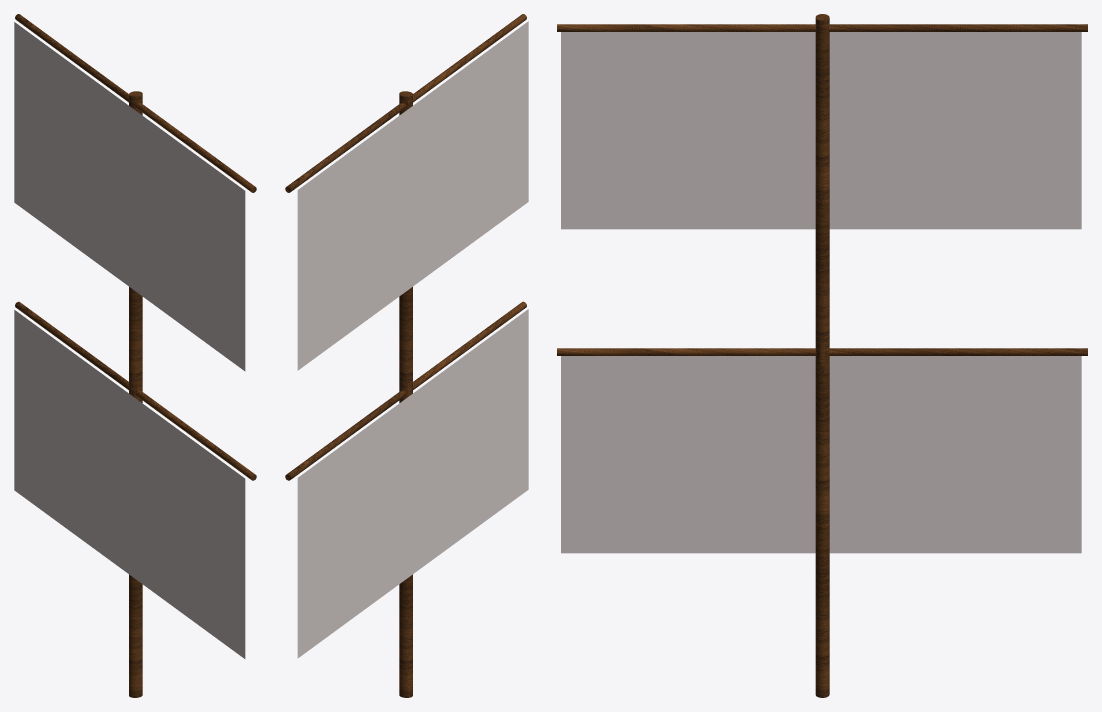
The model's file is shipMast.glb.
The picture shows the model from 3 angles, left to right: view 1: azimuth 30°, elevation 25°; view 2: azimuth 150°, elevation 25°; view 3: azimuth 270°, elevation 25°; orthographic projection. The views are drawn at different scales.
Parts seen in each view (by area): view 1: Raft Flag.001, Raft Flag, Raft Pole.001, Raft Pole.004, Raft Pole.002, Raft Pole.003; view 2: Raft Flag, Raft Flag.001, Raft Pole.001, Raft Pole.004, Raft Pole.002, Raft Pole.003; view 3: Raft Flag, Raft Flag.001, Raft Pole.001, Raft Pole.004, Raft Pole.005, Raft Pole.002, Raft Pole, Raft Pole.003.
Boxes of the visible parts, left/top/right/bottom form: Raft Flag.001: left=14, top=22, right=245, bottom=371; Raft Flag: left=14, top=310, right=245, bottom=658; Raft Pole.001: left=15, top=301, right=256, bottom=480; Raft Pole.004: left=15, top=14, right=256, bottom=192; Raft Pole.002: left=129, top=574, right=142, bottom=697; Raft Pole.003: left=129, top=287, right=142, bottom=402; Raft Flag: left=297, top=309, right=528, bottom=658; Raft Flag.001: left=297, top=21, right=528, bottom=370; Raft Pole.001: left=285, top=301, right=526, bottom=480; Raft Pole.004: left=285, top=14, right=526, bottom=192; Raft Pole.002: left=399, top=574, right=412, bottom=697; Raft Pole.003: left=399, top=287, right=412, bottom=402; Raft Flag: left=561, top=356, right=1081, bottom=553; Raft Flag.001: left=561, top=32, right=1081, bottom=229; Raft Pole.001: left=557, top=348, right=1087, bottom=355; Raft Pole.004: left=557, top=24, right=1087, bottom=31; Raft Pole.005: left=815, top=14, right=829, bottom=197; Raft Pole.002: left=815, top=518, right=829, bottom=697; Raft Pole: left=815, top=342, right=829, bottom=522; Raft Pole.003: left=815, top=194, right=829, bottom=373.
Size of the model in its own units: 0.4252 by 19.27 by 13.69.
8 materials, 6 textured.
